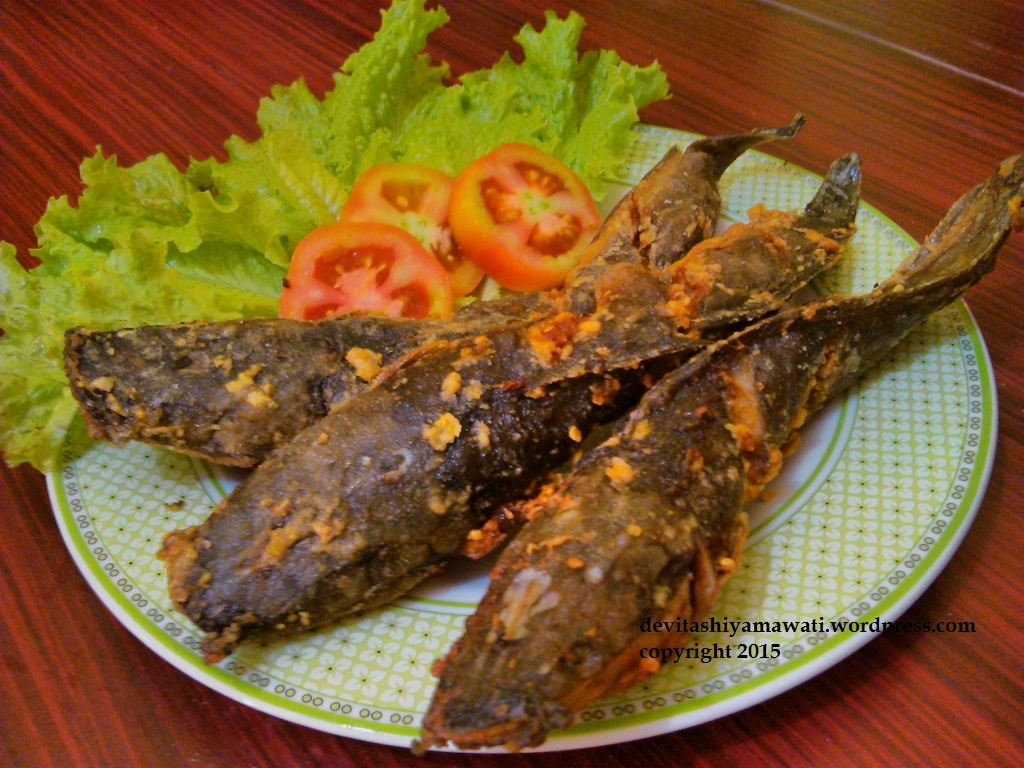pecel_lele: (395, 155, 996, 761), (155, 287, 542, 691)
